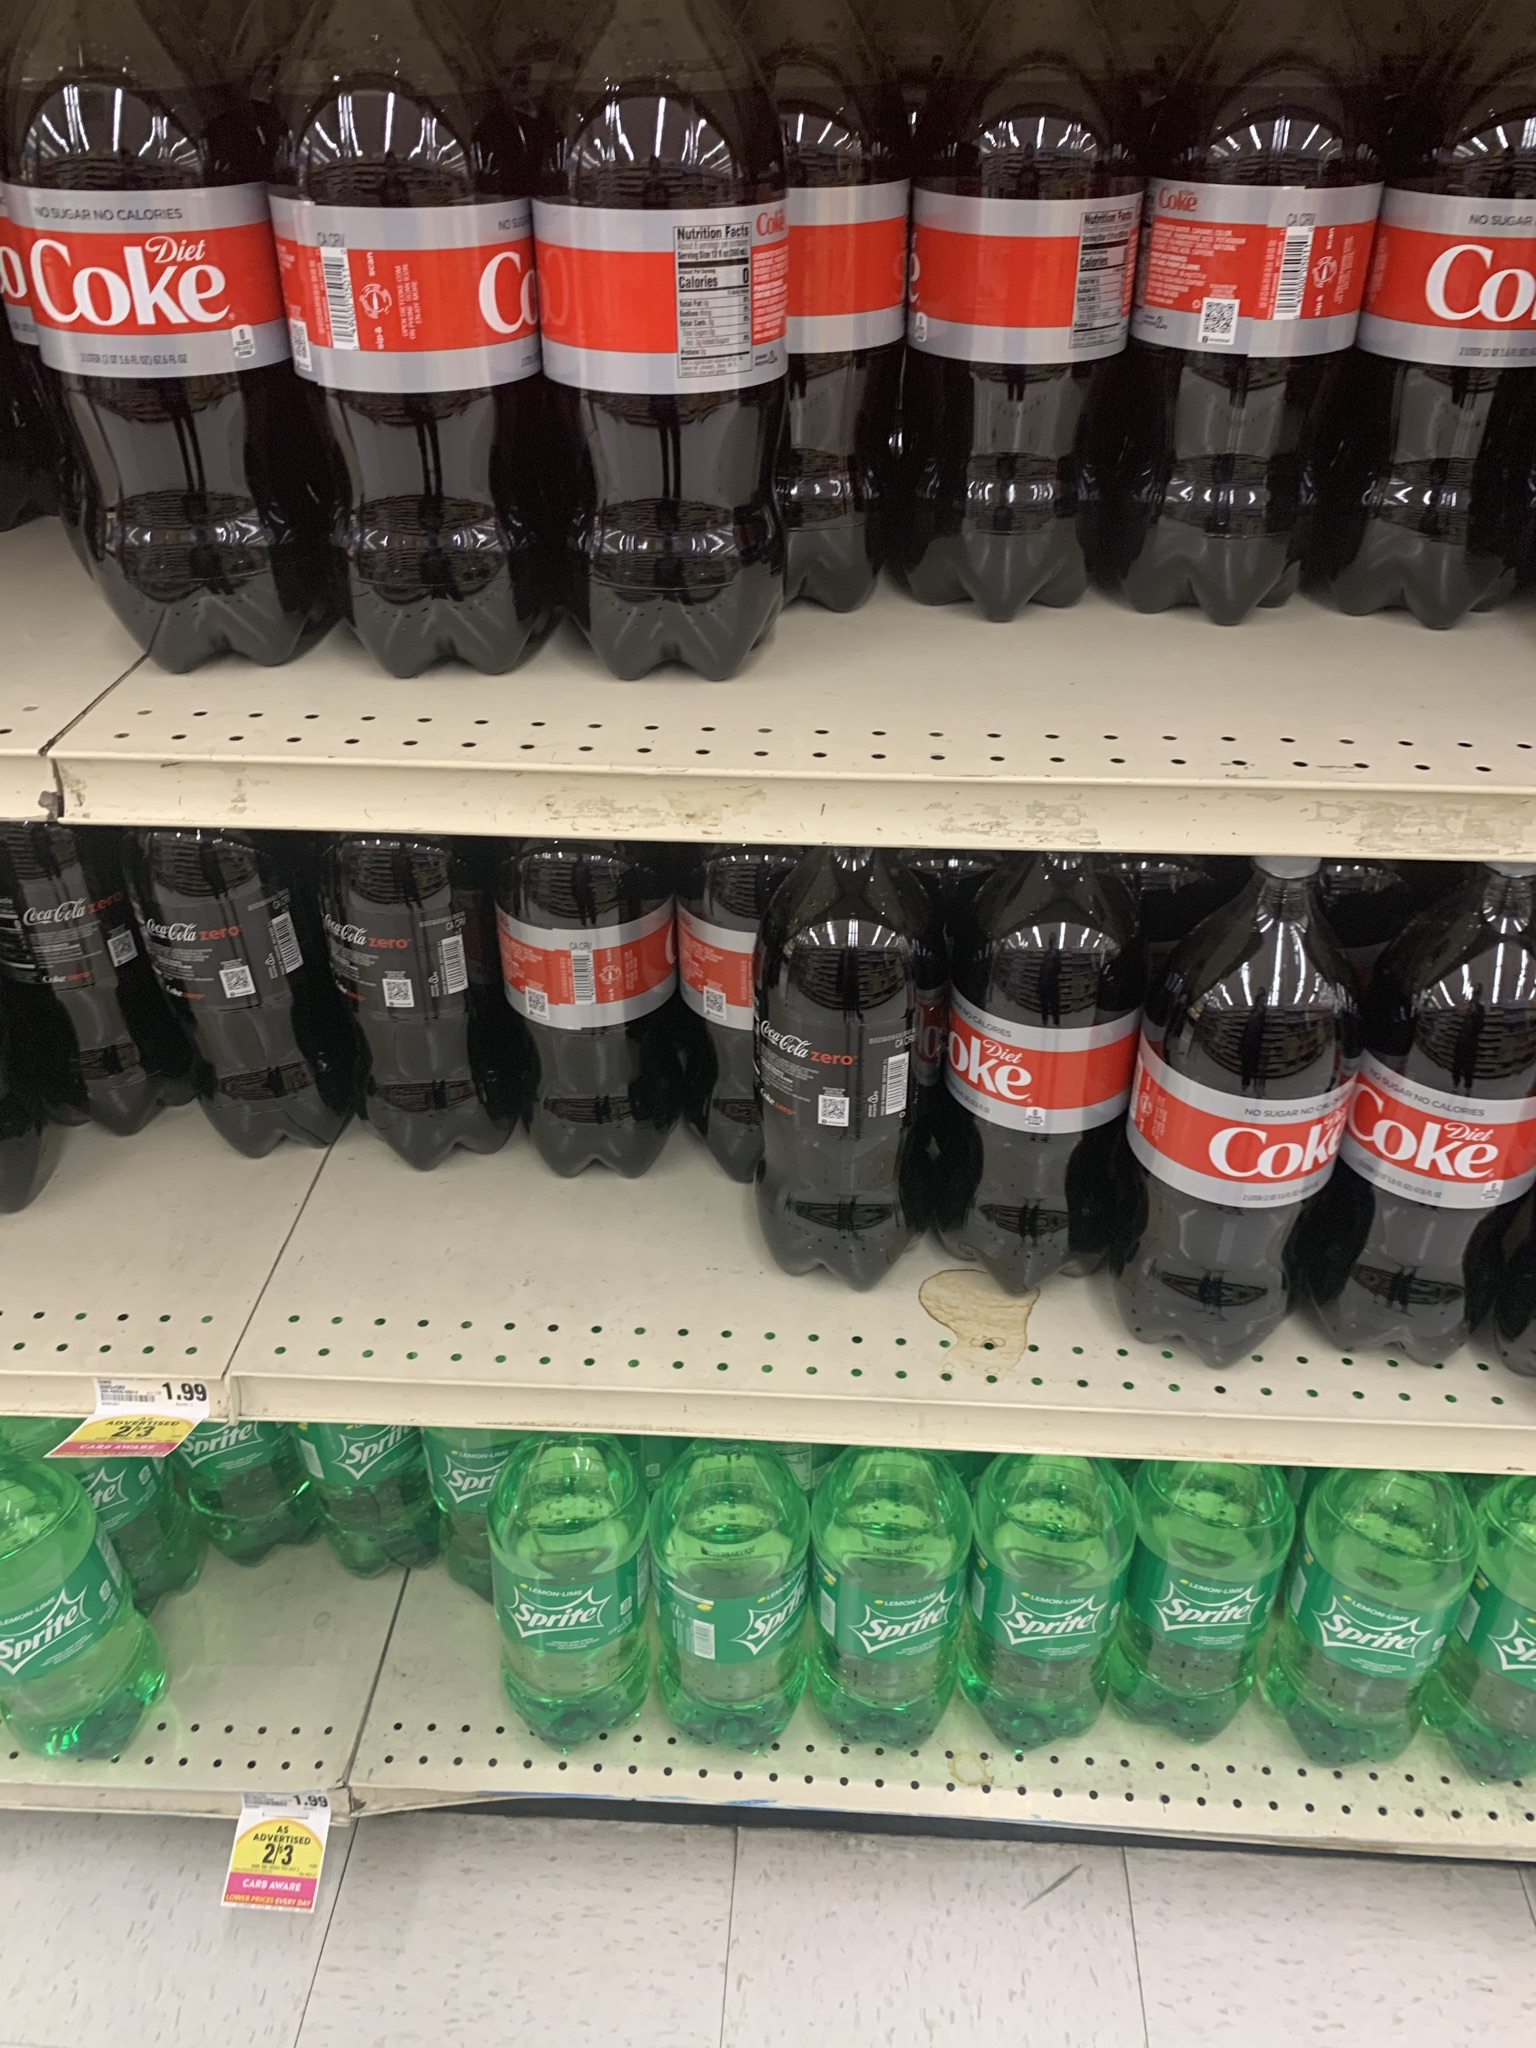coke soda: (37, 61, 302, 640), (303, 74, 511, 634), (558, 85, 753, 664), (929, 74, 1121, 619), (1163, 76, 1339, 611), (724, 880, 925, 1269), (1412, 85, 1536, 611), (1194, 897, 1333, 1343), (1379, 906, 1512, 1366), (979, 892, 1117, 1329), (11, 864, 161, 1155), (179, 869, 329, 1151), (539, 874, 684, 1161), (360, 869, 507, 1143)
sprite soda: (489, 1451, 652, 1725), (671, 1451, 812, 1750), (829, 1456, 970, 1742), (3, 1488, 148, 1751), (1321, 1476, 1449, 1771), (1154, 1480, 1289, 1742), (997, 1471, 1121, 1725), (310, 1434, 424, 1571)
